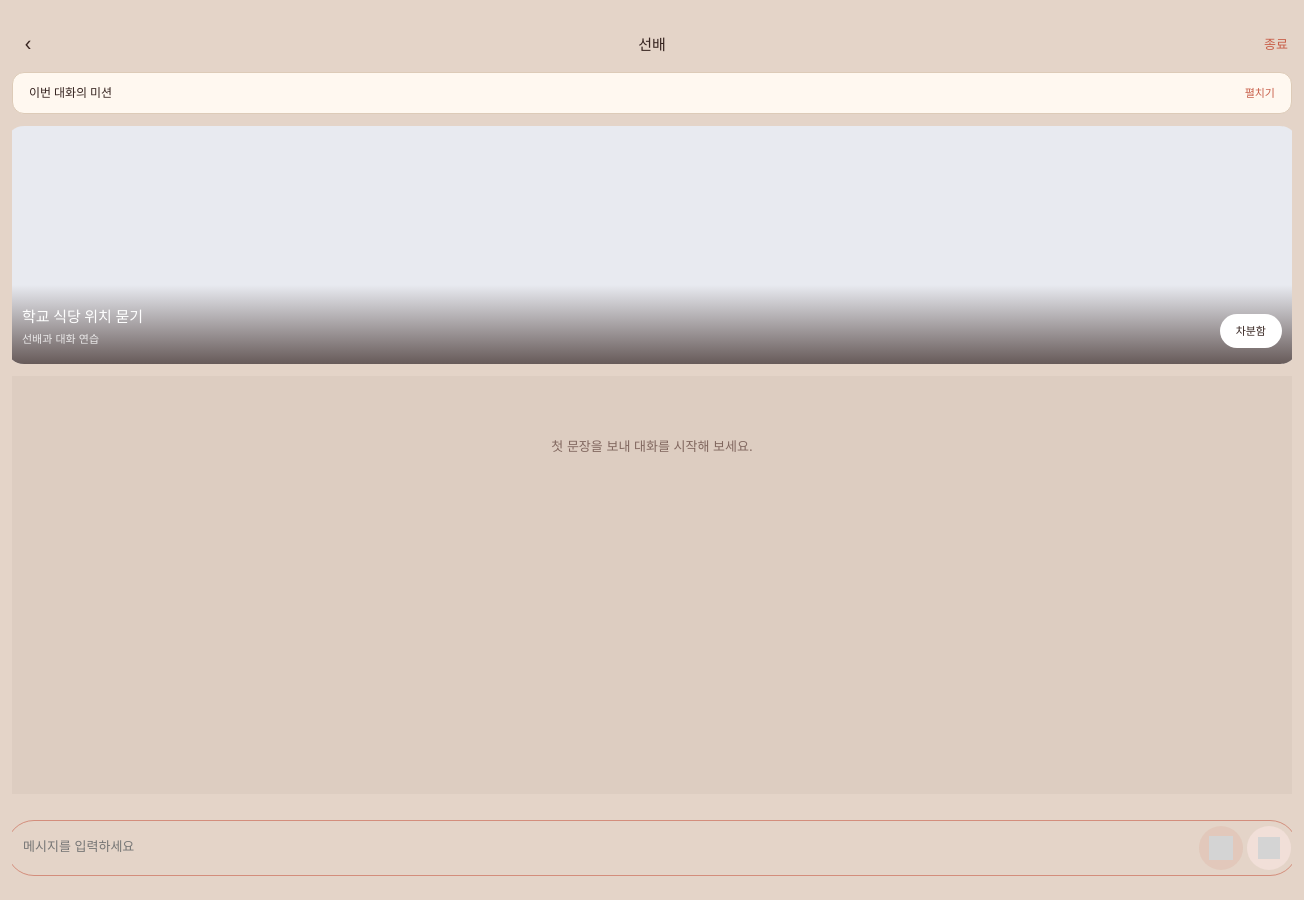
Scenario: 전송 뒤 늦게 도착한 목표 달성을 폴링으로 받아온다
In the text box named "내 답변": (607, 848) left=19, top=826, right=1195, bottom=870, type "알려주셔서 감사합니다"
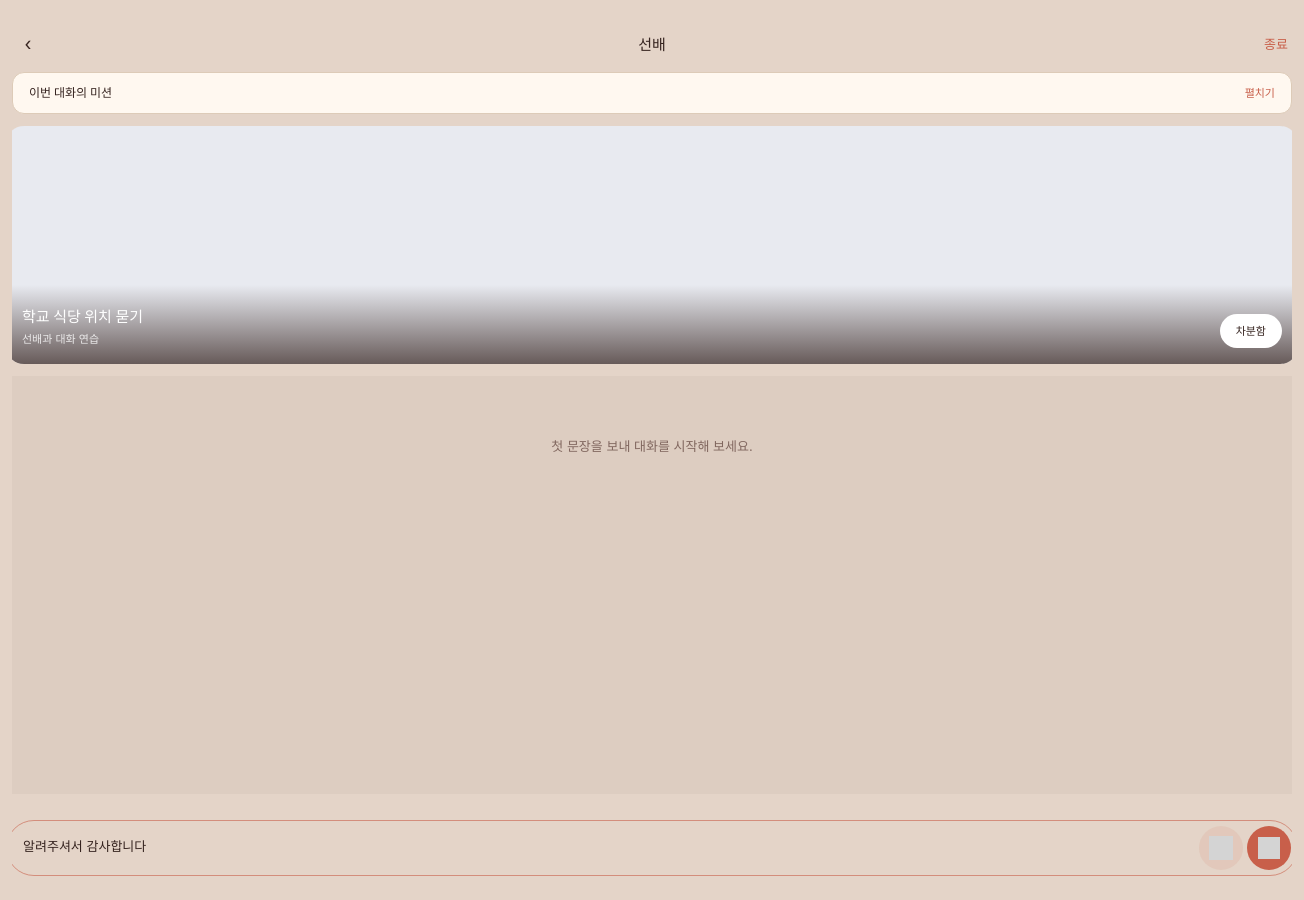
Click the button named "보내기": (1269, 848) left=1247, top=826, right=1291, bottom=870
Wait 2500 ms
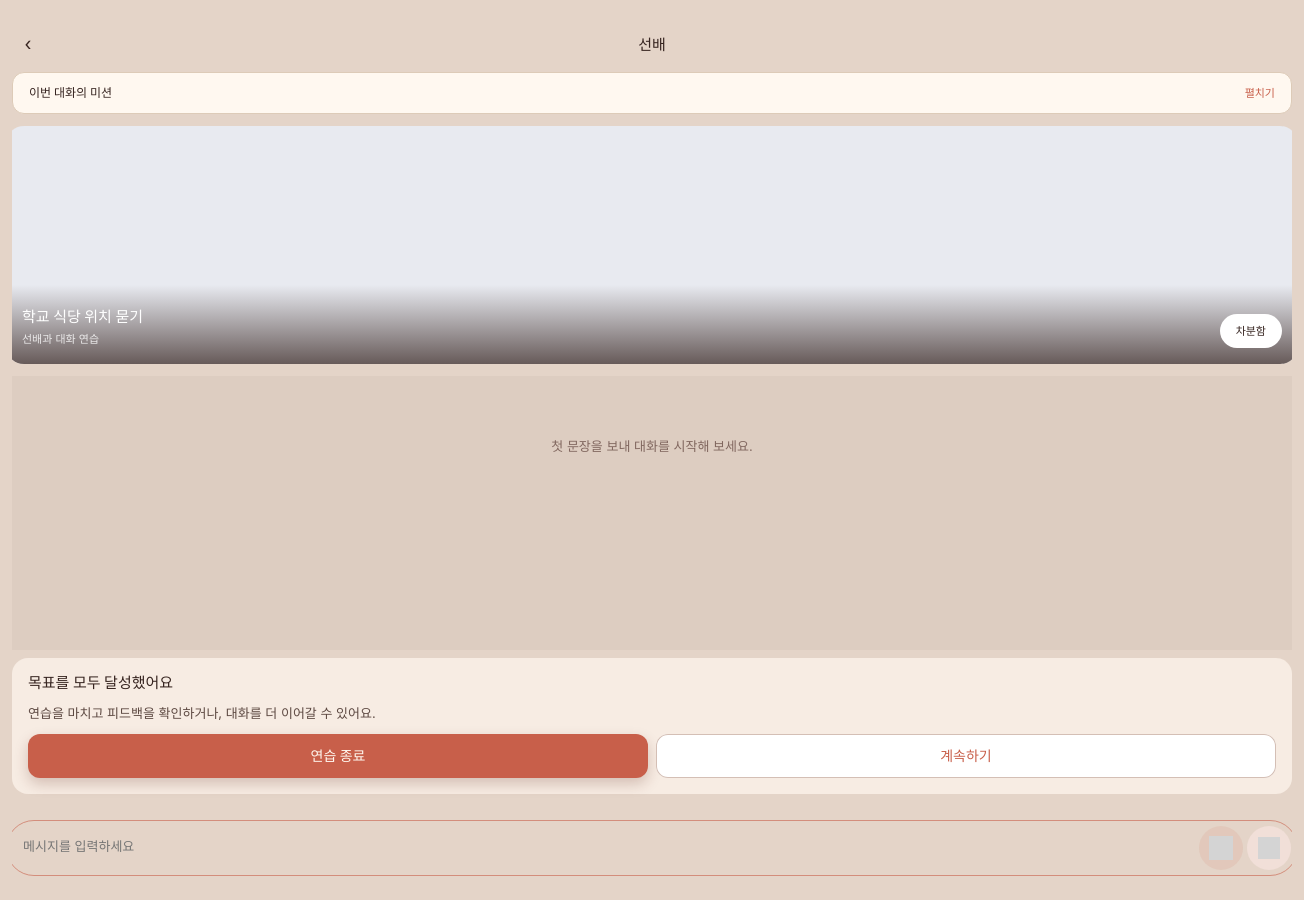
Check: the text "목표를 모두 달성했어요" is shown, box left=28, top=673, right=173, bottom=692
